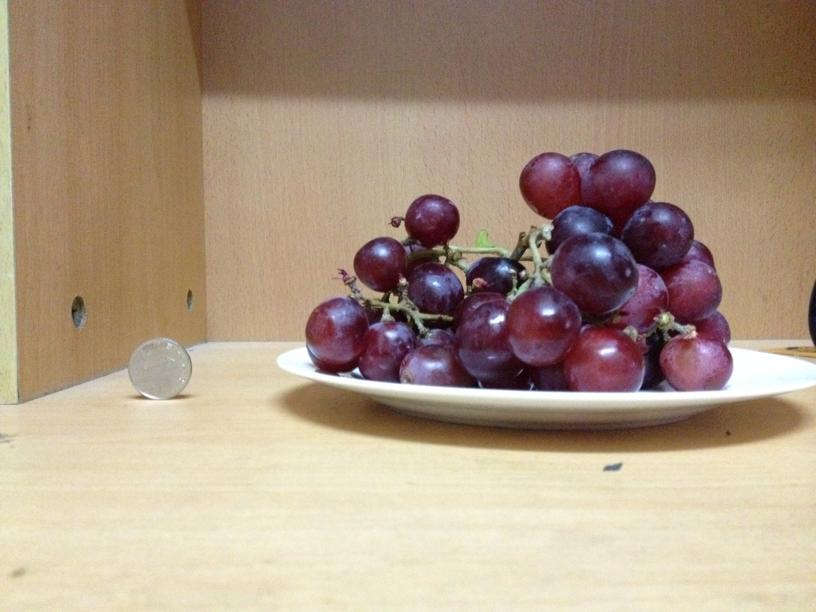coin: (126, 334, 190, 400)
grape: (311, 149, 736, 391)
